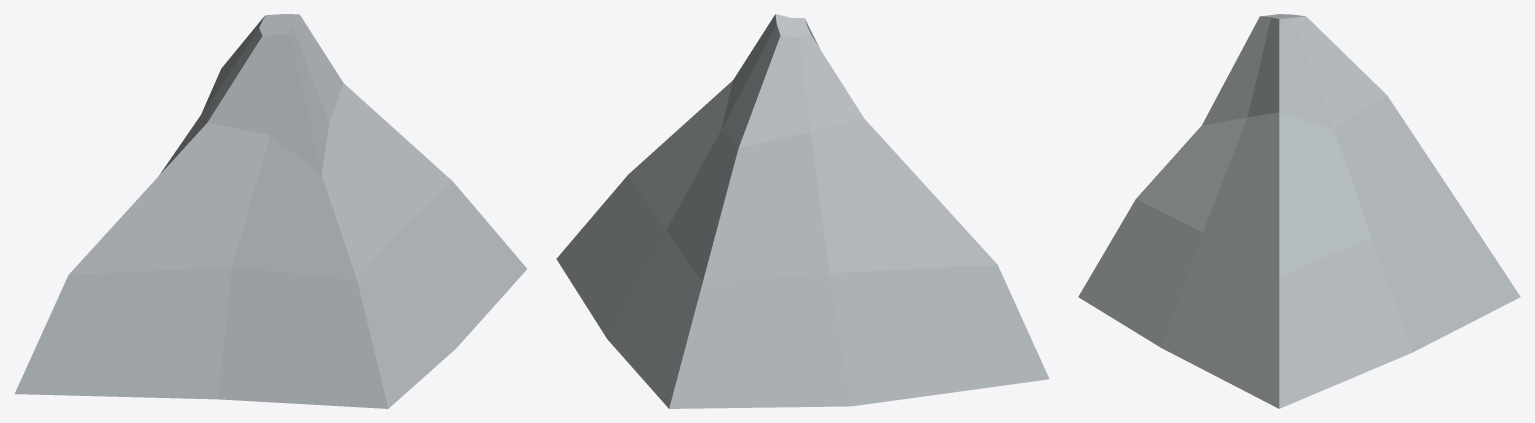
Rendered from maya_export_Mountain1.fbx.
3 views of the same model, side by side, from view 1: azimuth 30°, elevation 25°; view 2: azimuth 150°, elevation 25°; view 3: azimuth 270°, elevation 25° (orthographic). The views are drawn at different scales.
Parts seen in each view (by area): view 1: Mountain1; view 2: Mountain1; view 3: Mountain1.
Part boxes in pixels (left/top/right/bottom): Mountain1: left=14, top=14, right=526, bottom=408; Mountain1: left=556, top=14, right=1049, bottom=408; Mountain1: left=1078, top=14, right=1520, bottom=408.
Bounding box in the file's own units: 898 × 519 × 726.
Materials: 1 (1 with a texture image).
